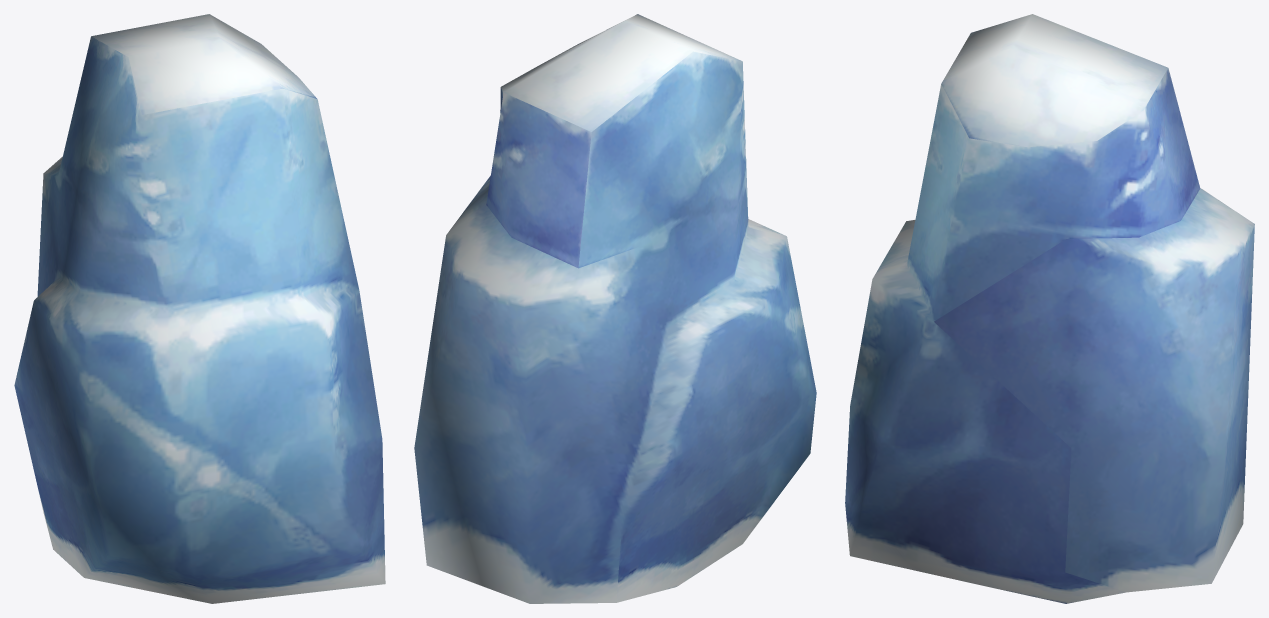
The model's file is SM_stoneA_01.fbx.
The picture shows the model from 3 angles, left to right: view 1: azimuth 30°, elevation 25°; view 2: azimuth 150°, elevation 25°; view 3: azimuth 270°, elevation 25°; orthographic projection. The views are drawn at different scales.
Parts seen in each view (by area): view 1: SM_stoneA_01; view 2: SM_stoneA_01; view 3: SM_stoneA_01.
Part boxes in pixels (x1=…): SM_stoneA_01: x1=14, y1=14, x2=385, y2=603; SM_stoneA_01: x1=414, y1=14, x2=816, y2=603; SM_stoneA_01: x1=845, y1=14, x2=1254, y2=603.
Bounding box in the file's own units: 8.54 × 14.09 × 10.41.
